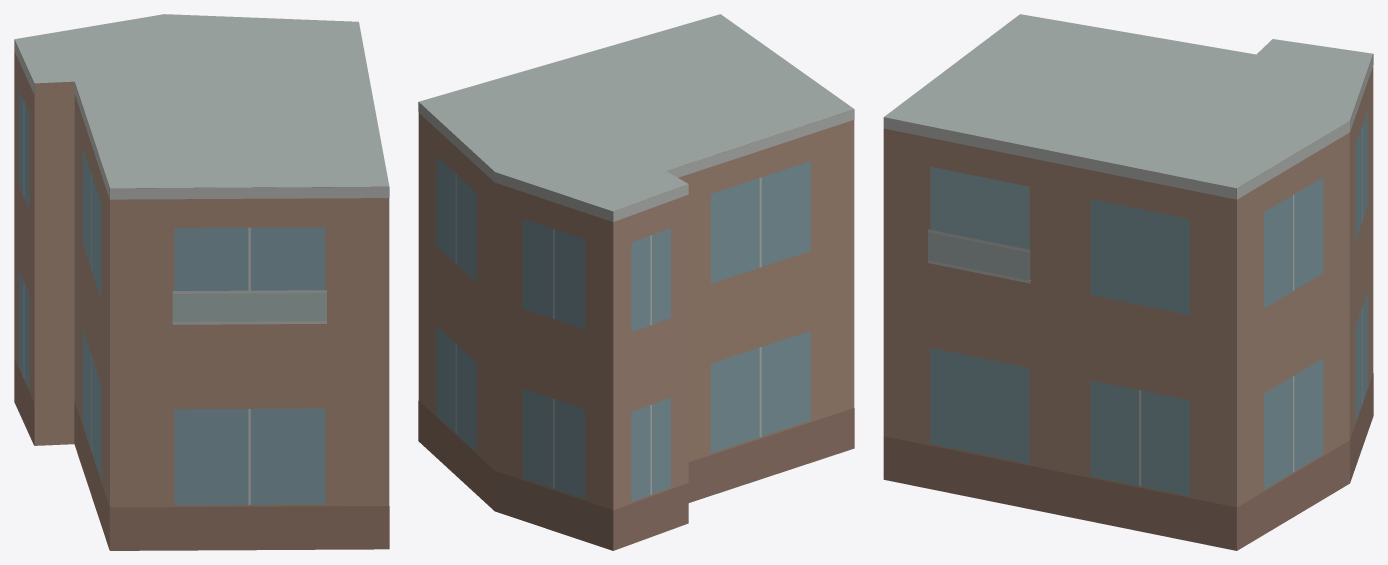
File: survey-upis-32498885.glb
3 renders of one model, left to right at view 1: azimuth 30°, elevation 25°; view 2: azimuth 150°, elevation 25°; view 3: azimuth 270°, elevation 25°, orthographic. The views are drawn at different scales.
Visible parts, largest first — view 1: survey-upis-32498885.tmp; view 2: survey-upis-32498885.tmp; view 3: survey-upis-32498885.tmp.
Boxes of the visible parts, x1=… form: survey-upis-32498885.tmp: x1=14, y1=14, x2=389, y2=550; survey-upis-32498885.tmp: x1=418, y1=14, x2=854, y2=550; survey-upis-32498885.tmp: x1=883, y1=14, x2=1373, y2=550.
Size of the model in its own units: 8.06 by 7.8 by 9.56.
